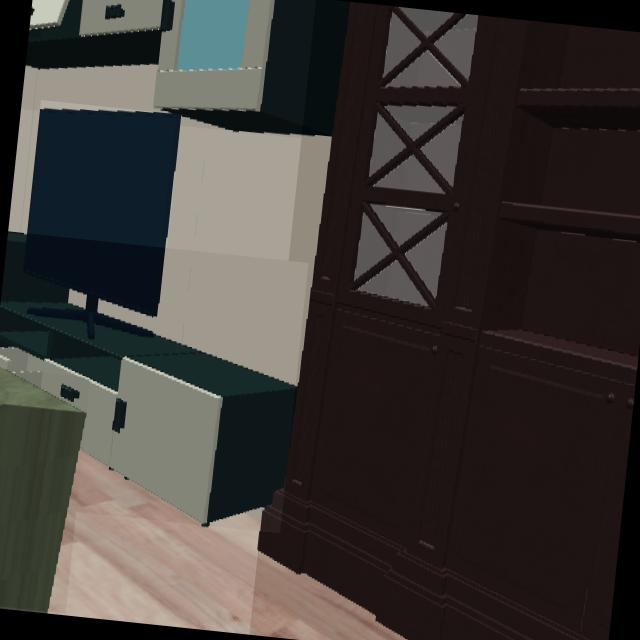bookshelf: (259, 1, 640, 640)
cabinet: (0, 231, 295, 525), (25, 0, 350, 134)
monitor: (22, 111, 181, 339)
sofa: (0, 371, 86, 612)
